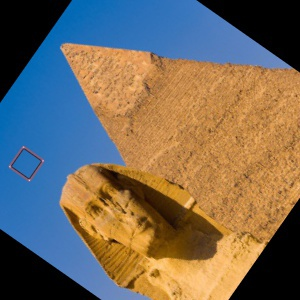square: (8, 145, 46, 184)
